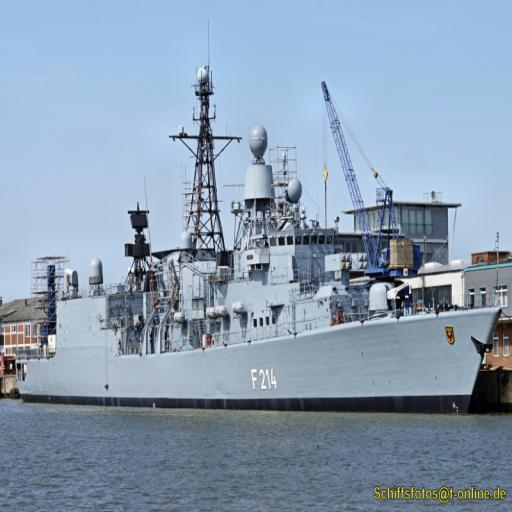Fragata: (14, 39, 504, 426)
